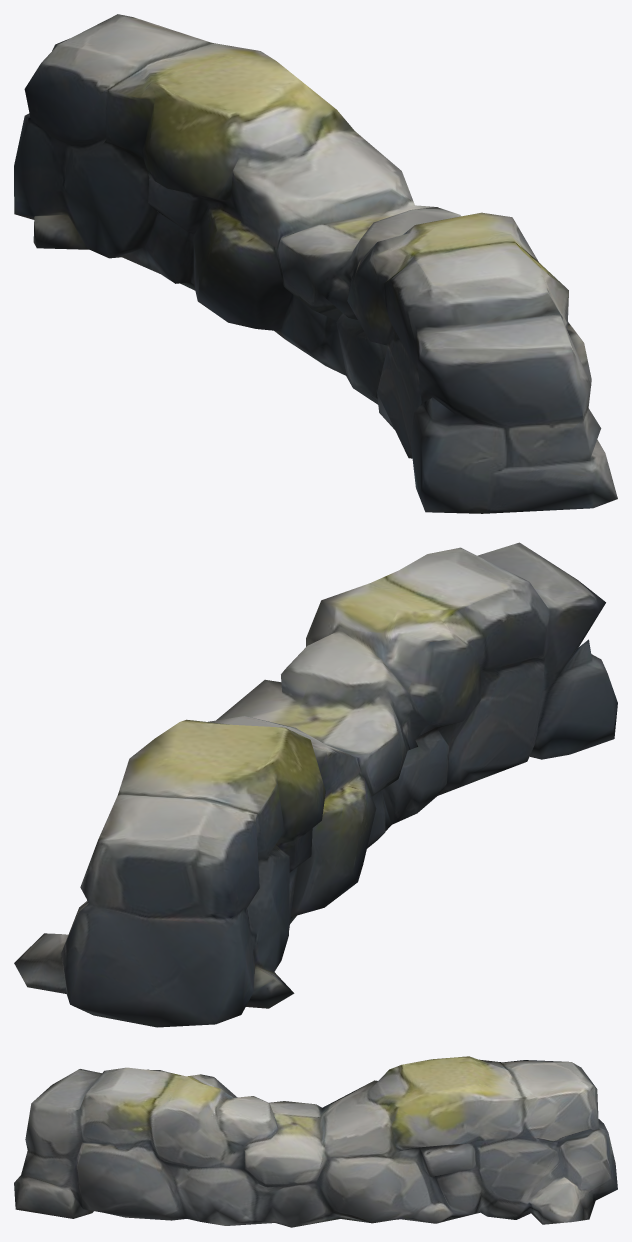
The model's file is arena_wall_b.glb.
3 renders of one model, top to bottom at view 1: azimuth 30°, elevation 25°; view 2: azimuth 150°, elevation 25°; view 3: azimuth 270°, elevation 25°, orthographic. The views are drawn at different scales.
Parts seen in each view (by area): view 1: tripo_node_470cab1f-fb67-4cc1-ba71-bb4e3f44f1d7; view 2: tripo_node_470cab1f-fb67-4cc1-ba71-bb4e3f44f1d7; view 3: tripo_node_470cab1f-fb67-4cc1-ba71-bb4e3f44f1d7.
Boxes of the visible parts, <box> form: tripo_node_470cab1f-fb67-4cc1-ba71-bb4e3f44f1d7: <box>14,14,617,513</box>; tripo_node_470cab1f-fb67-4cc1-ba71-bb4e3f44f1d7: <box>14,542,617,1027</box>; tripo_node_470cab1f-fb67-4cc1-ba71-bb4e3f44f1d7: <box>14,1056,617,1227</box>.
Size of the model in its own units: 1.22 by 0.85 by 3.86.
1 material, 1 textured.
